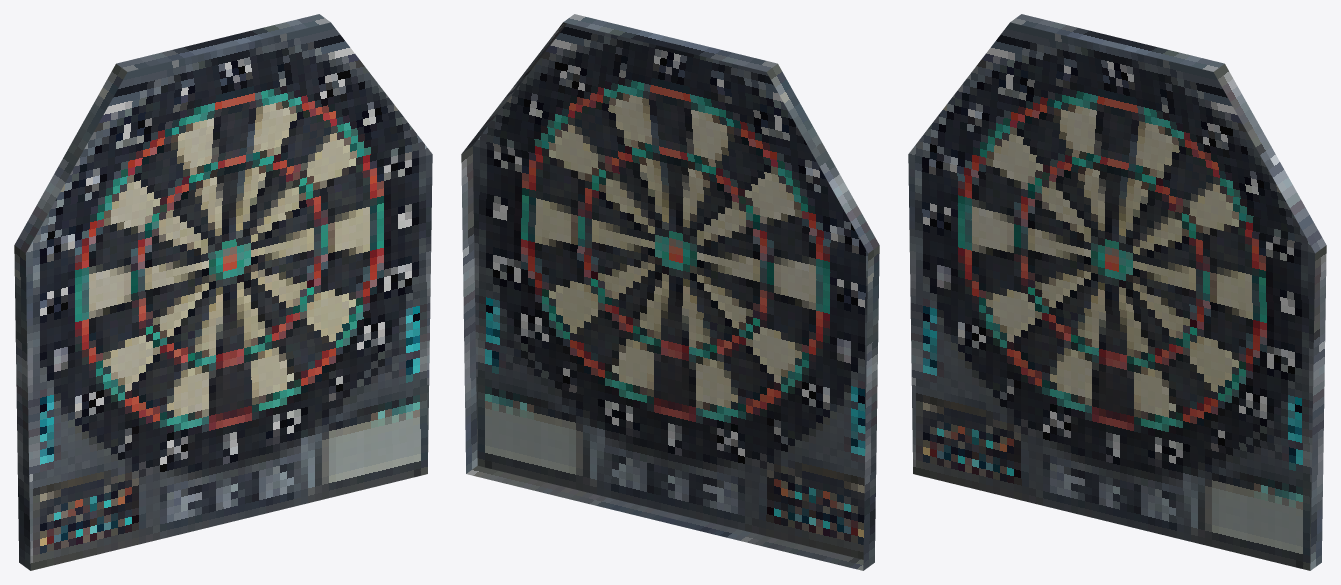
File: DartBoard01.obj
The picture shows the model from 3 angles, left to right: view 1: azimuth 30°, elevation 25°; view 2: azimuth 150°, elevation 25°; view 3: azimuth 330°, elevation 25°; orthographic projection.
Parts seen in each view (by area): view 1: DartBoard01; view 2: DartBoard01; view 3: DartBoard01.
Part boxes in pixels (x1,y1,x2,y2): DartBoard01: (14,14,432,570); DartBoard01: (461,14,879,570); DartBoard01: (908,14,1326,570).
Bounding box in the file's own units: 1.41 × 1.58 × 0.069.
